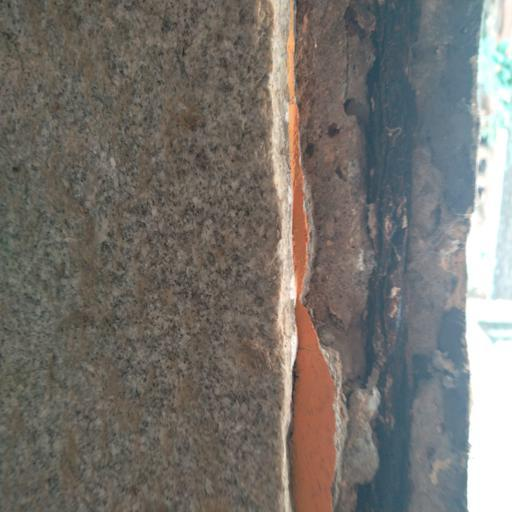spalling: (239, 0, 468, 512)
